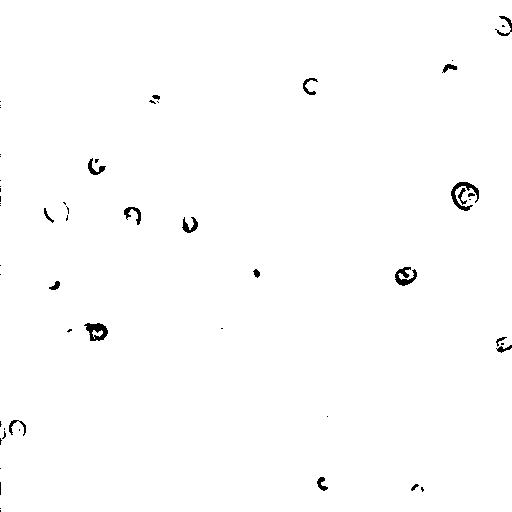micro-algae: (43, 195, 71, 229), (450, 181, 481, 210), (57, 321, 87, 350), (437, 59, 465, 87), (119, 205, 145, 231), (81, 319, 109, 343), (244, 261, 269, 287), (223, 341, 247, 368), (395, 264, 417, 288), (404, 479, 430, 498), (488, 332, 511, 353), (490, 15, 511, 37), (87, 155, 107, 177), (179, 212, 199, 234), (9, 418, 27, 439), (303, 76, 319, 95), (44, 277, 63, 291), (317, 475, 331, 491), (1, 421, 8, 441)
